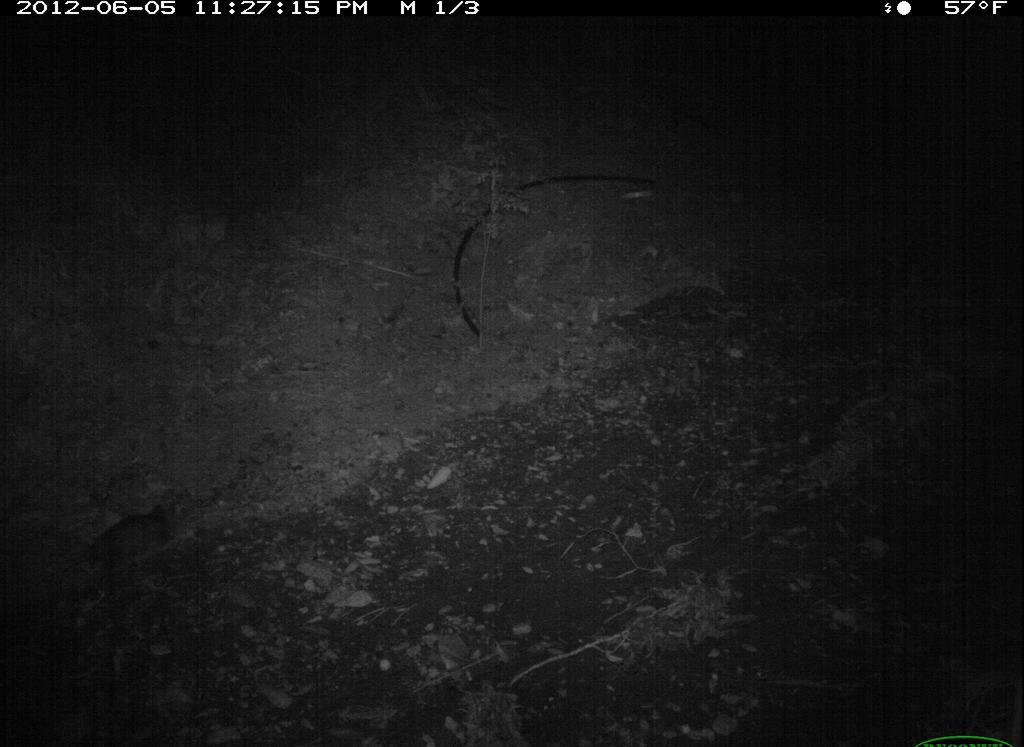opossum: (57, 497, 187, 589)
